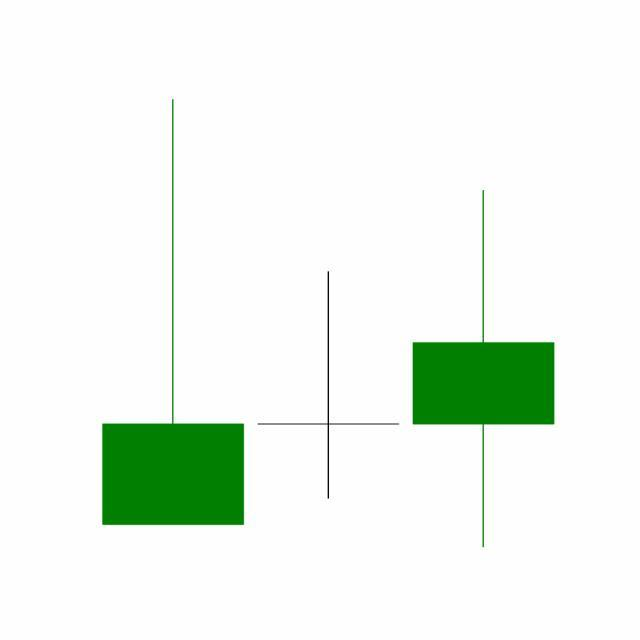Gravestone Doji: (250, 269, 407, 502)
